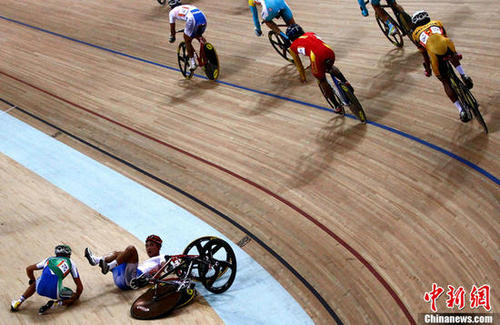fall: (5, 231, 88, 321)
